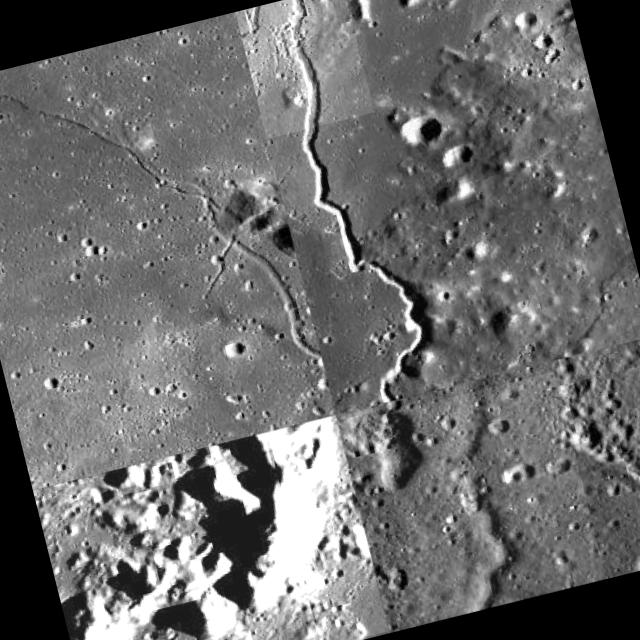rille: (0, 16, 334, 480), (32, 415, 388, 640), (261, 0, 451, 406), (373, 371, 606, 623), (235, 0, 374, 138)
